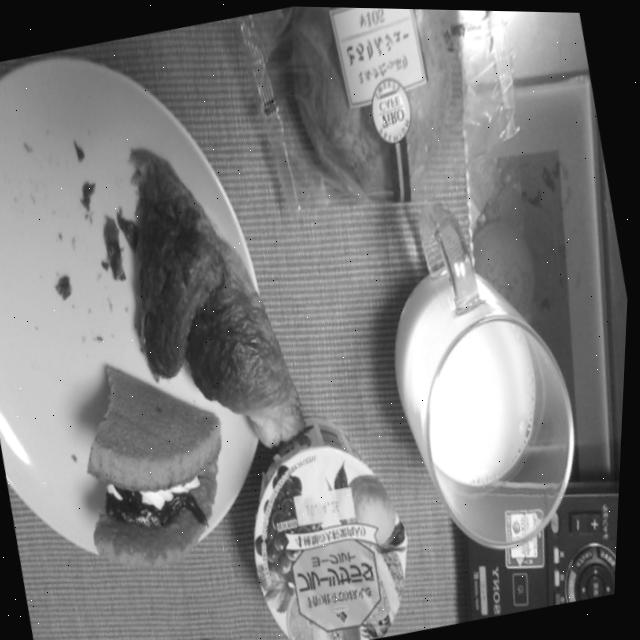面包点心: (96, 121, 328, 460)
